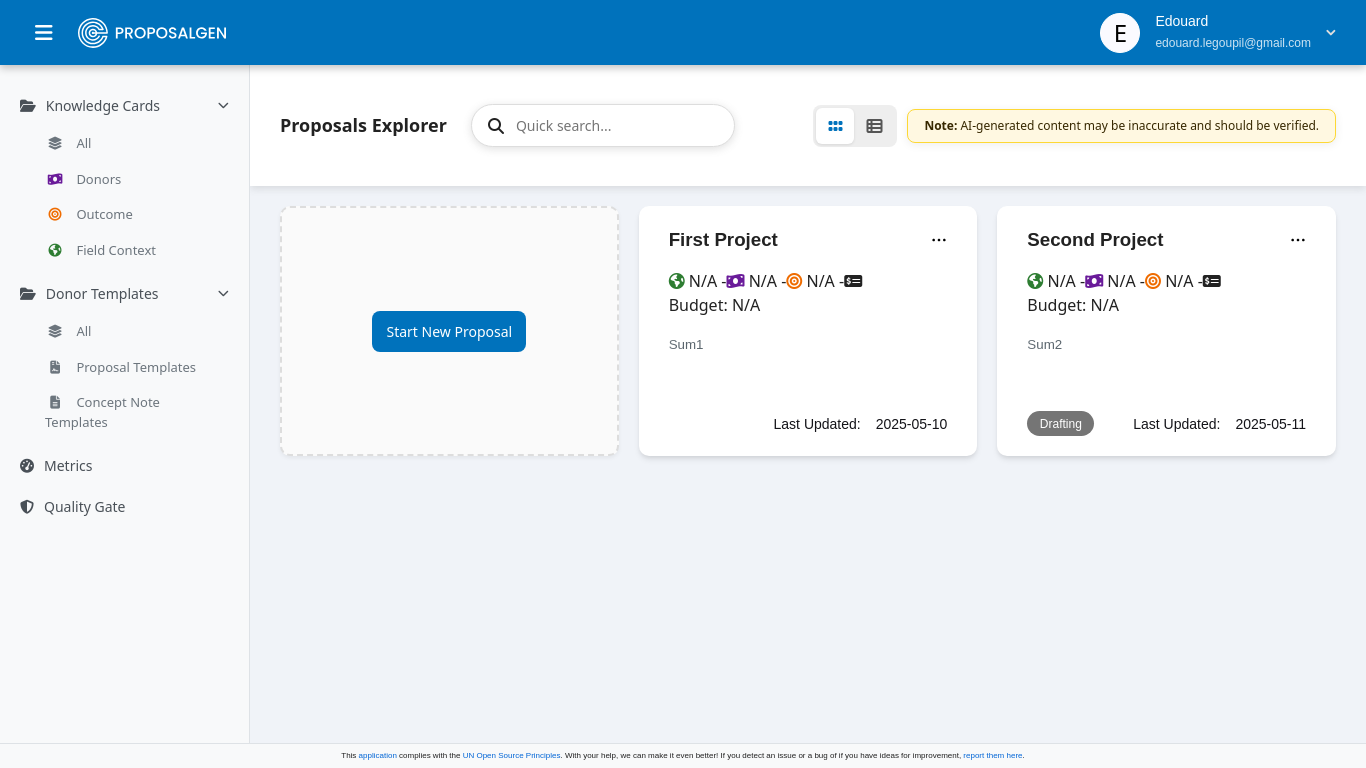
Dashboard Component › filters drafts based on search term
Expected: the heading "First Project" is shown, [669,226,778,254]
Expected: the heading "Second Project" is shown, [1027,226,1164,254]
Type "second" into the field with placeholder "Quick search..." at {"x": 617, "y": 126}, box [516,115,718,136]
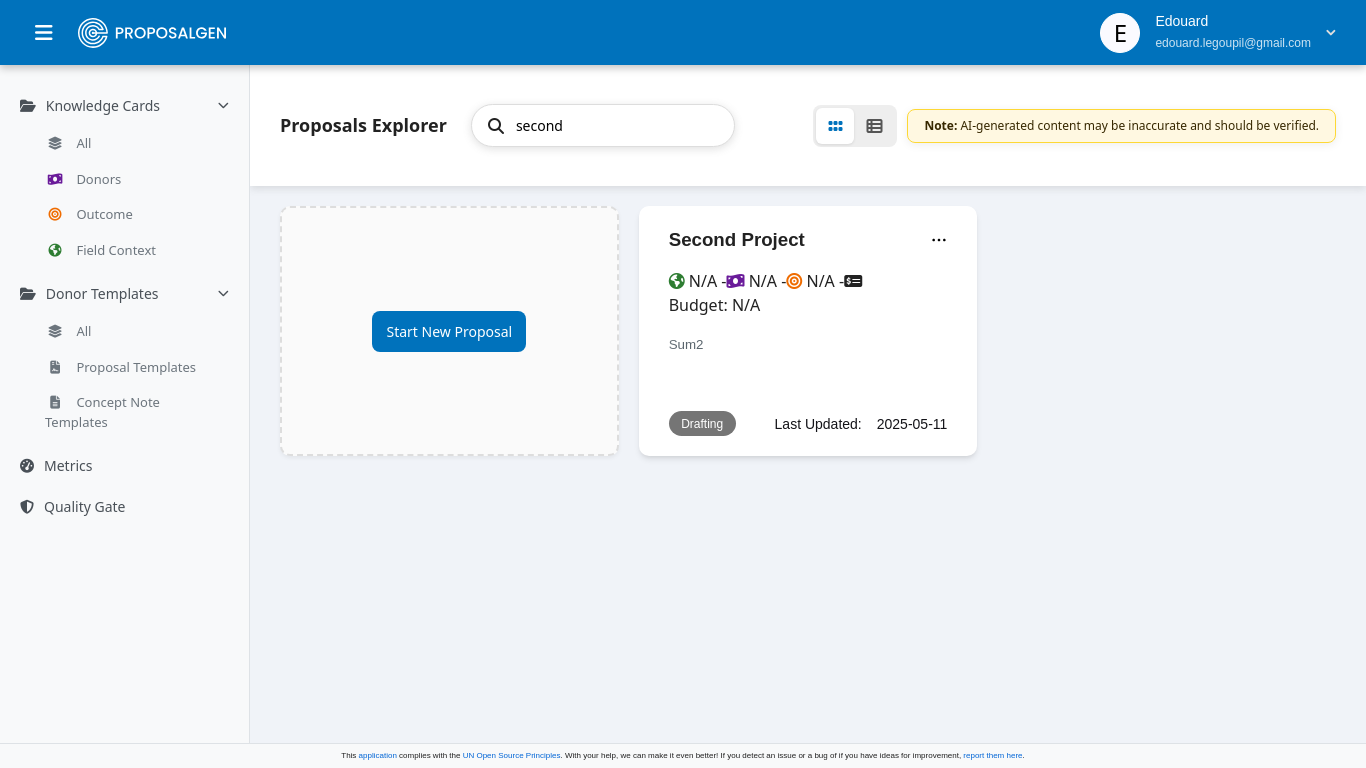
Expected: the heading "Second Project" is shown, [669,226,805,254]
Expected: the heading "First Project" is gone
